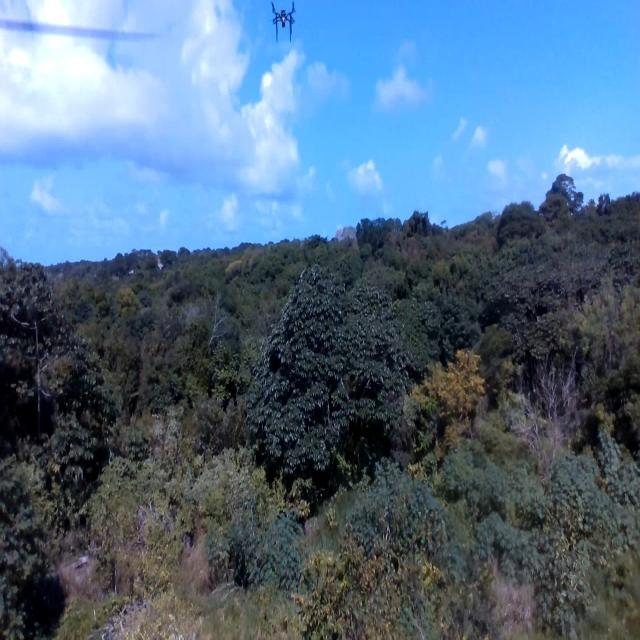-uav-: (265, 0, 303, 52)
